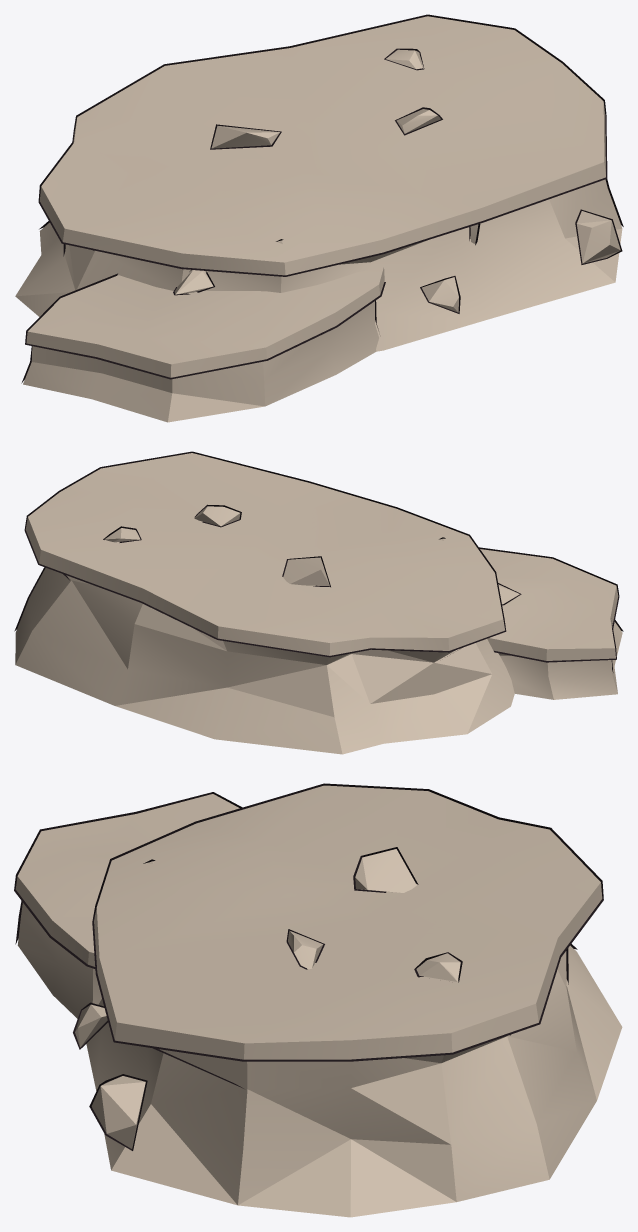
File: SM_Web_Ledge_01.fbx
The picture shows the model from 3 angles, top to bottom: view 1: azimuth 30°, elevation 25°; view 2: azimuth 150°, elevation 25°; view 3: azimuth 270°, elevation 25°; orthographic projection. The views are drawn at different scales.
Parts seen in each view (by area): view 1: SM_Web_Ledge_01; view 2: SM_Web_Ledge_01; view 3: SM_Web_Ledge_01.
Part boxes in pixels (left/top/right/bottom): SM_Web_Ledge_01: left=15, top=14, right=623, bottom=422; SM_Web_Ledge_01: left=14, top=451, right=623, bottom=754; SM_Web_Ledge_01: left=14, top=783, right=622, bottom=1217.
Bounding box in the file's own units: 50.65 × 11.27 × 35.73.
